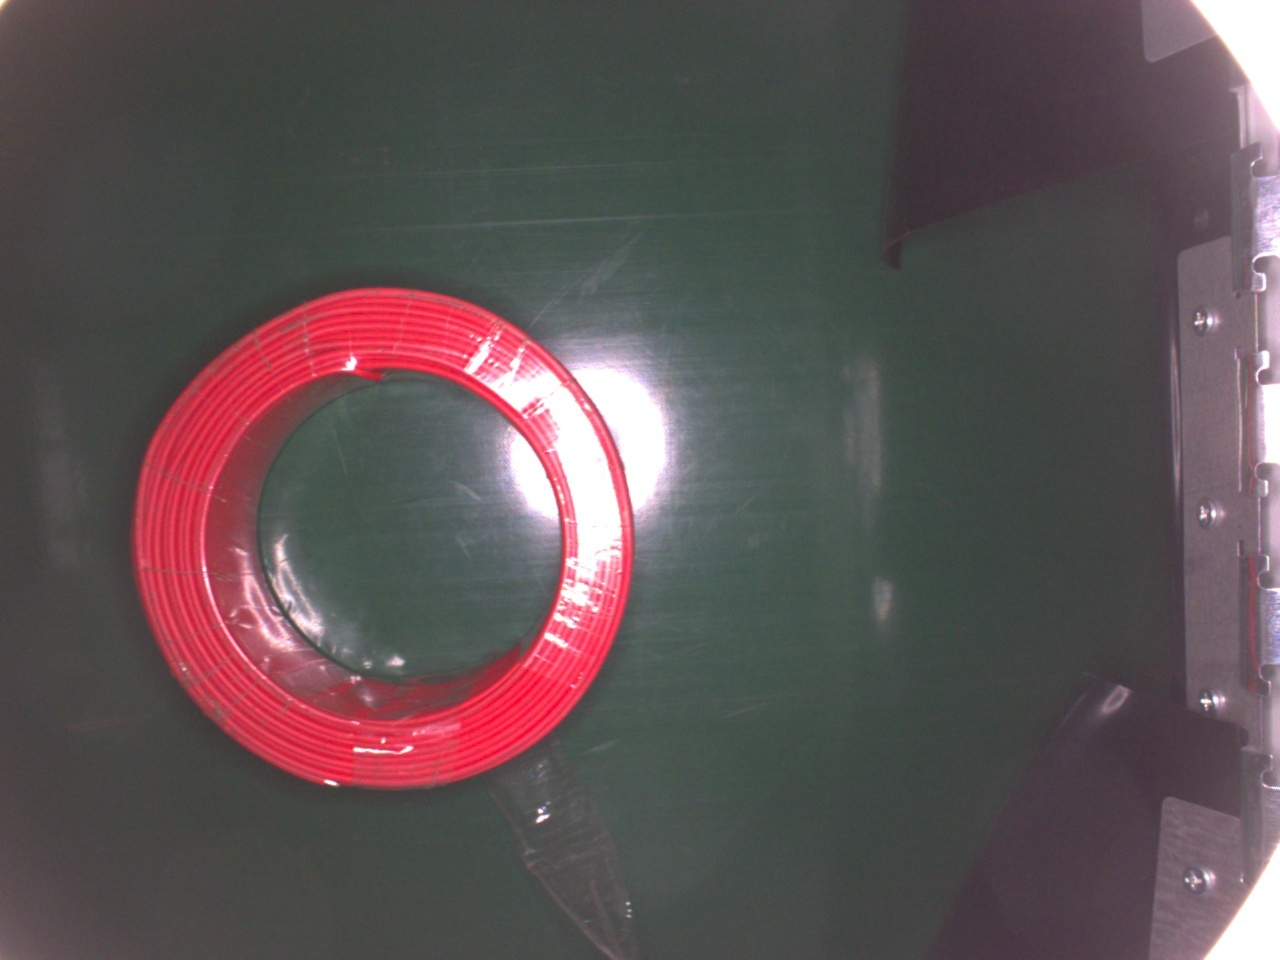red: (128, 281, 638, 793)
